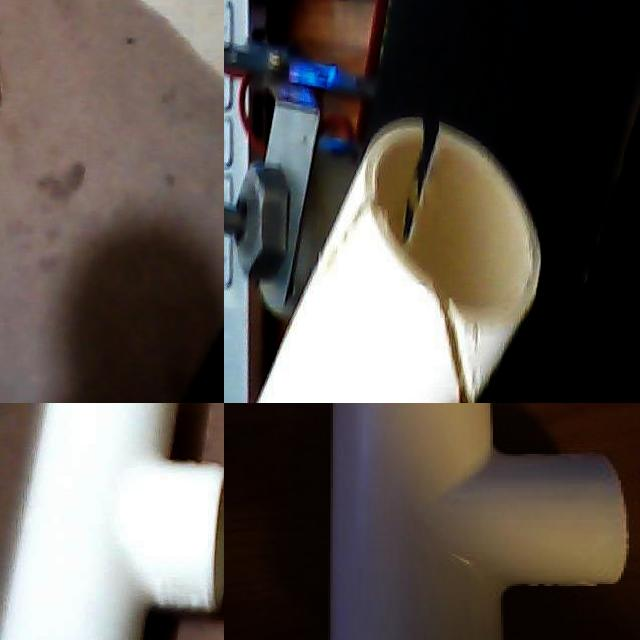Defective: (417, 275, 481, 403), (400, 102, 451, 256)
T Joint: (255, 117, 542, 403), (327, 403, 631, 640)
